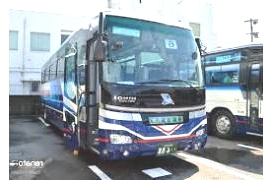bus: (40, 6, 207, 160)
